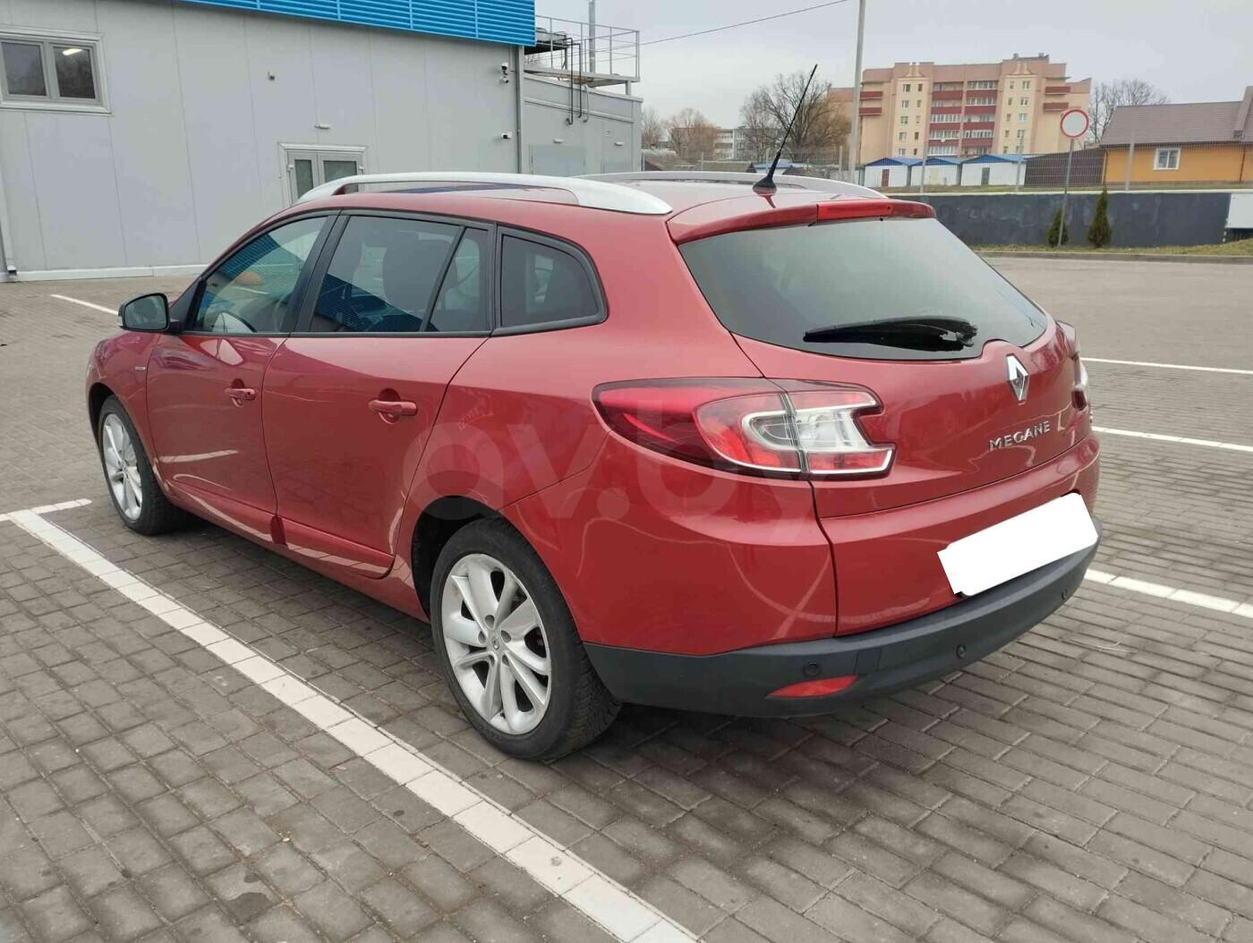Megane_2014-2016: (83, 169, 1112, 753)
